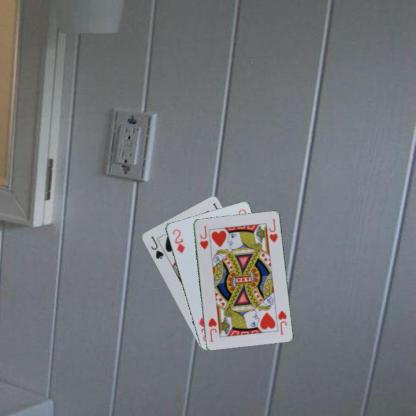2d: (170, 227, 186, 254)
Jh: (275, 307, 288, 336), (197, 223, 209, 250)
Js: (148, 233, 165, 260)
